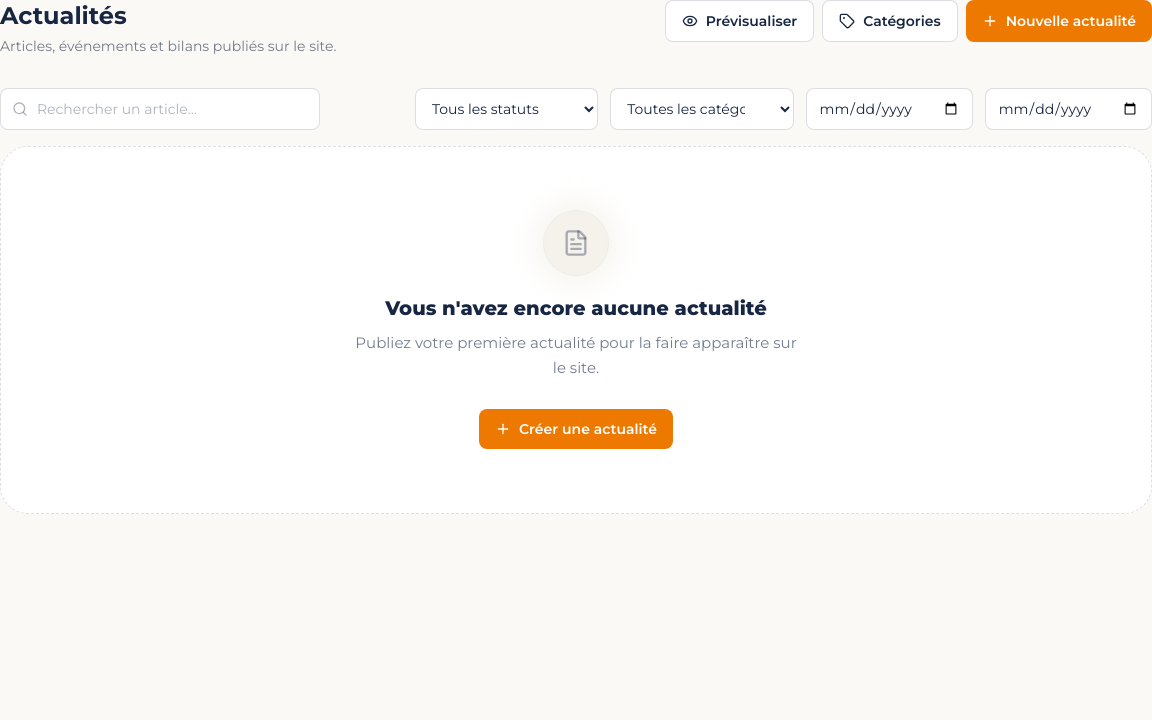
Test: NewsAdmin › rejects a slug that is not URL-safe
Click the button "Nouvelle actualité" at (1059, 21), box [966, 0, 1151, 42]
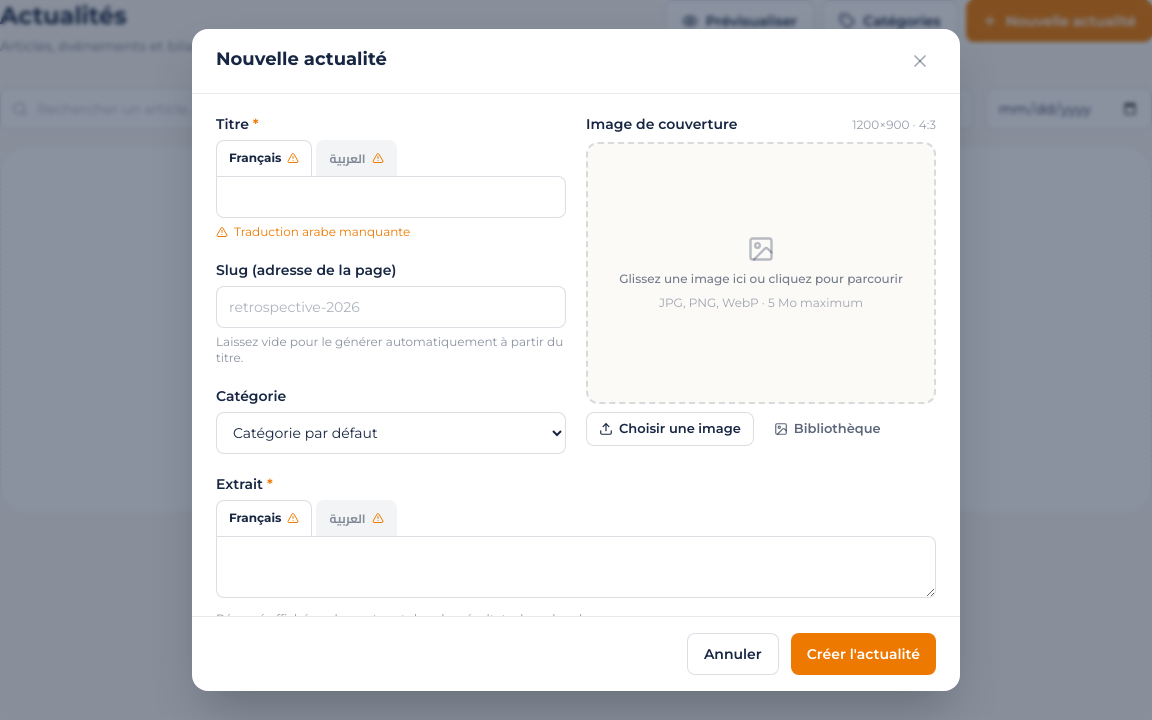
Type "Titre" into the field labelled "Titre*" at (391, 197), box [216, 176, 566, 218]
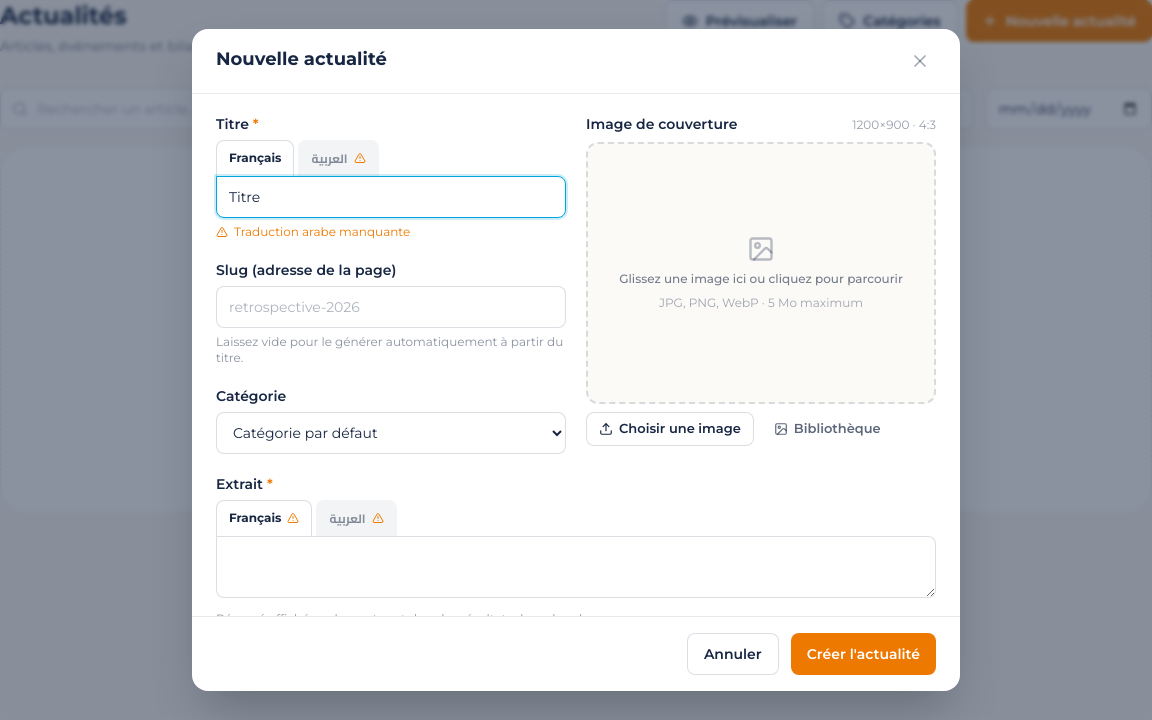
Type "Pas Valide!" into the field labelled "Slug (adresse de la page)" at (391, 307), box [216, 286, 566, 328]
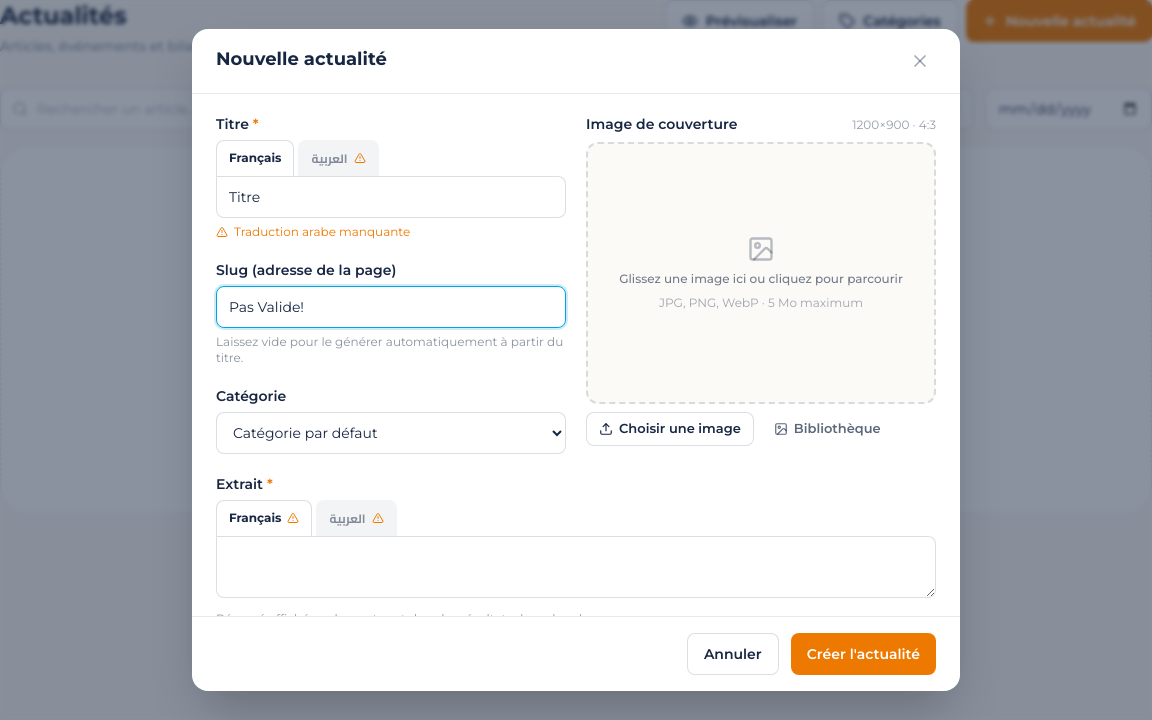
Type "Résumé" into the text box labelled "Extrait*" at (576, 567), box [216, 536, 936, 598]
(page scrolled)
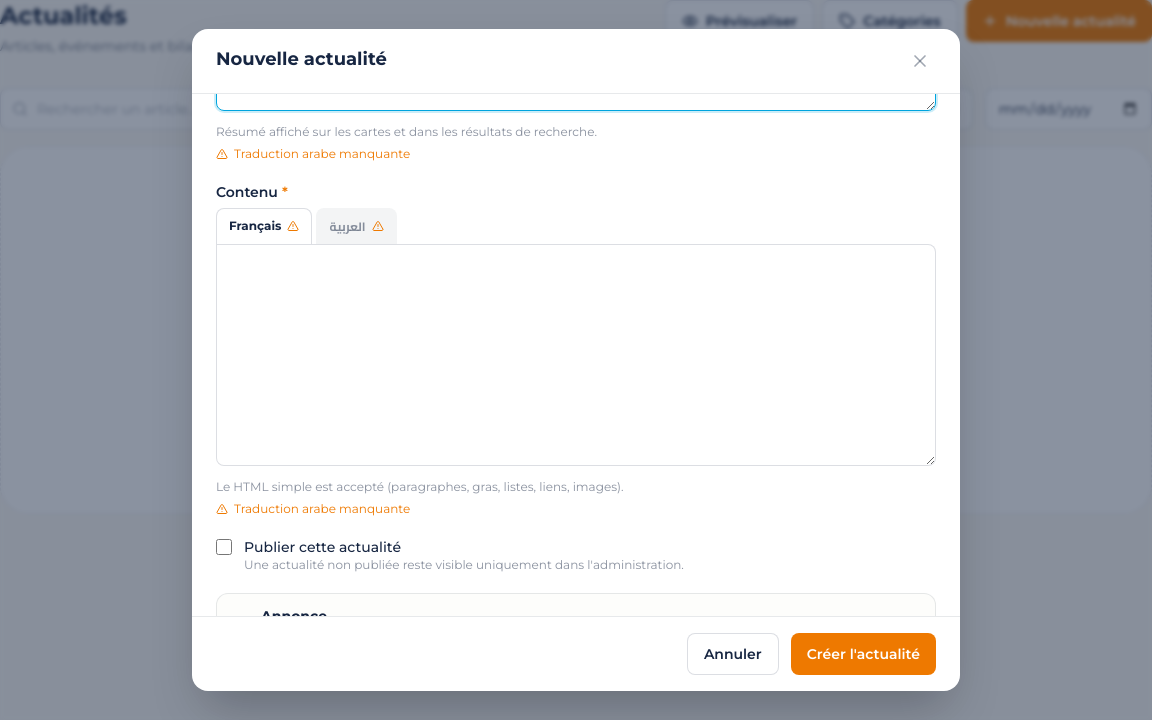
Type "Contenu" into the text box labelled "Contenu*" at (576, 355), box [216, 244, 936, 466]
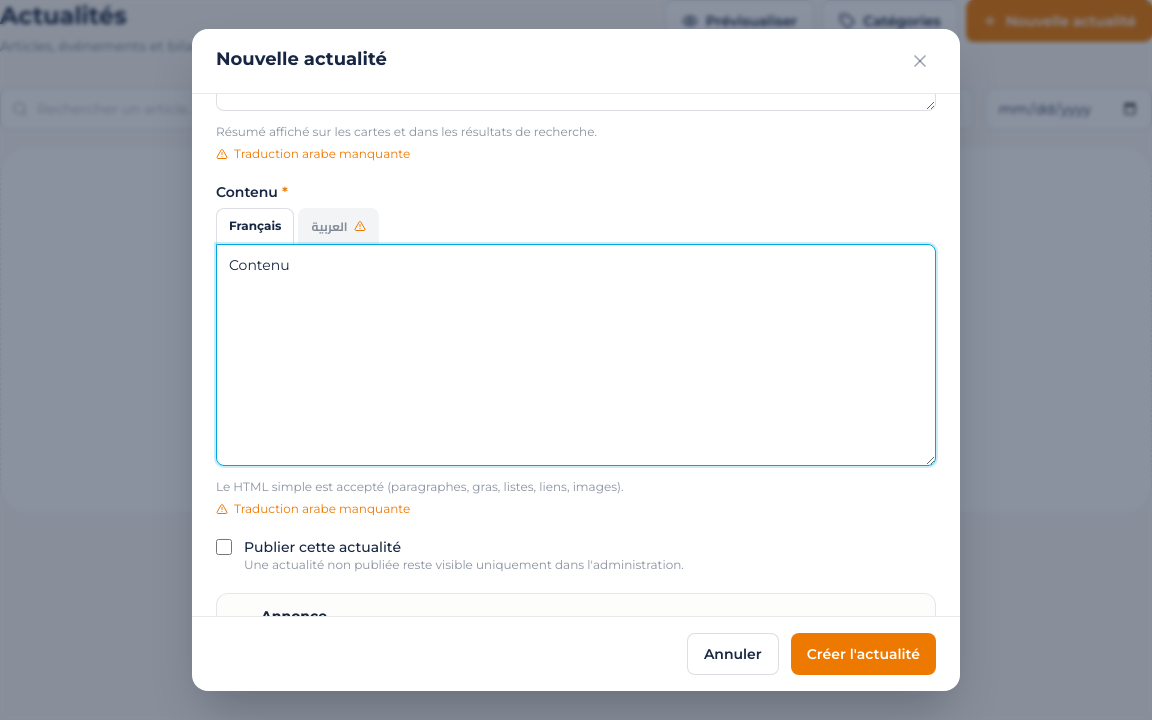
Click the button "Créer l'actualité" at (863, 654), box [791, 633, 936, 675]
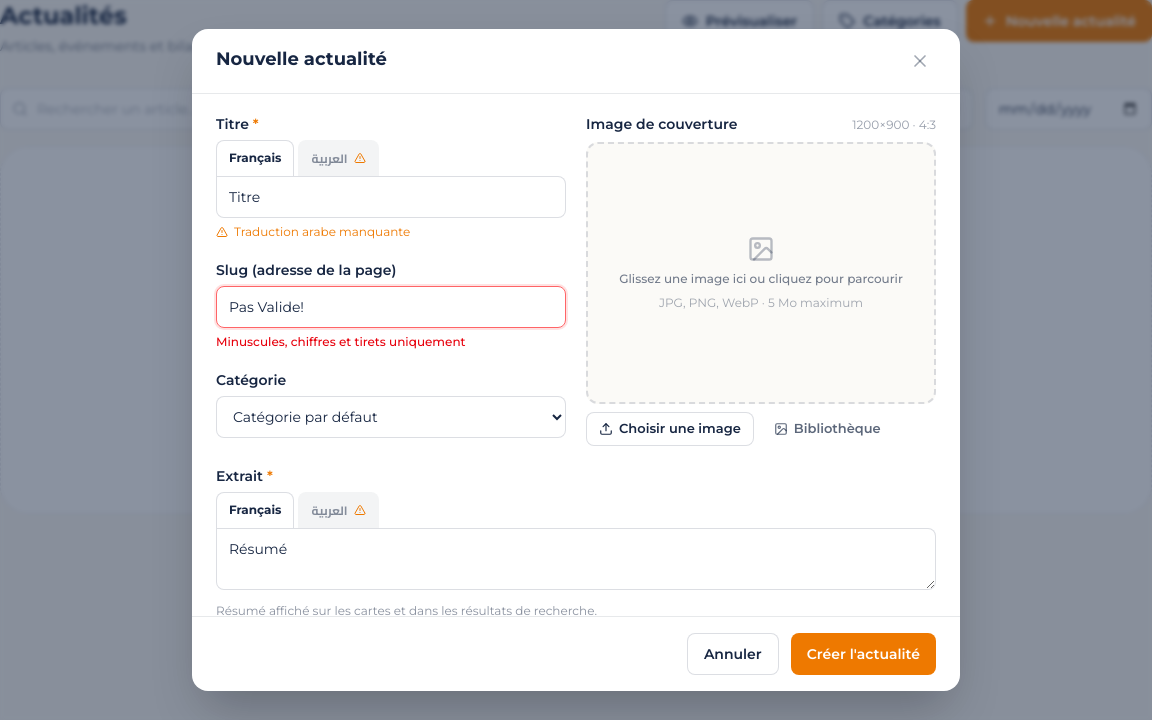
Expected: the text "Minuscules, chiffres et tirets uniquement" is shown, [216, 334, 466, 349]
